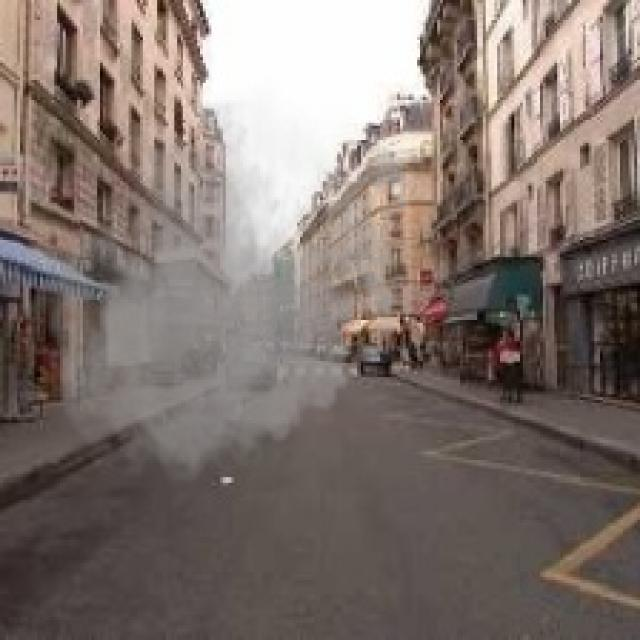smoke: (20, 74, 423, 497)
